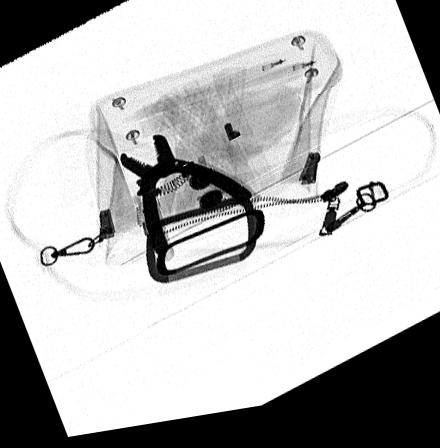Pliers: (118, 137, 252, 260)
